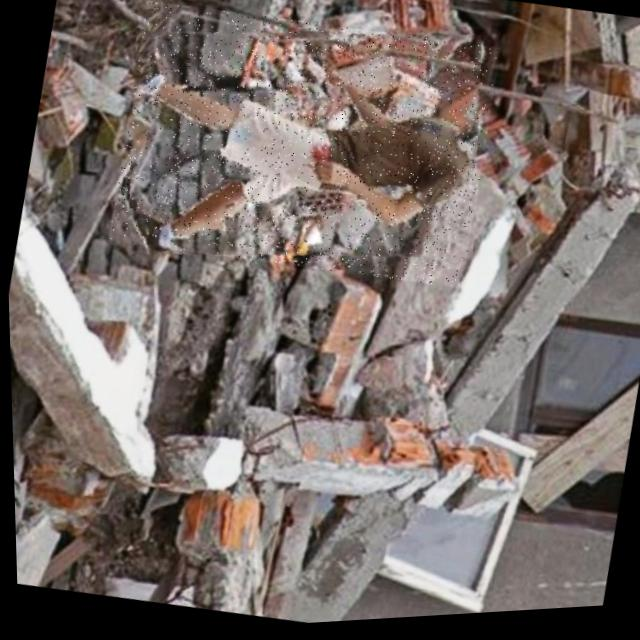Person in Rubble: (100, 0, 505, 311)
